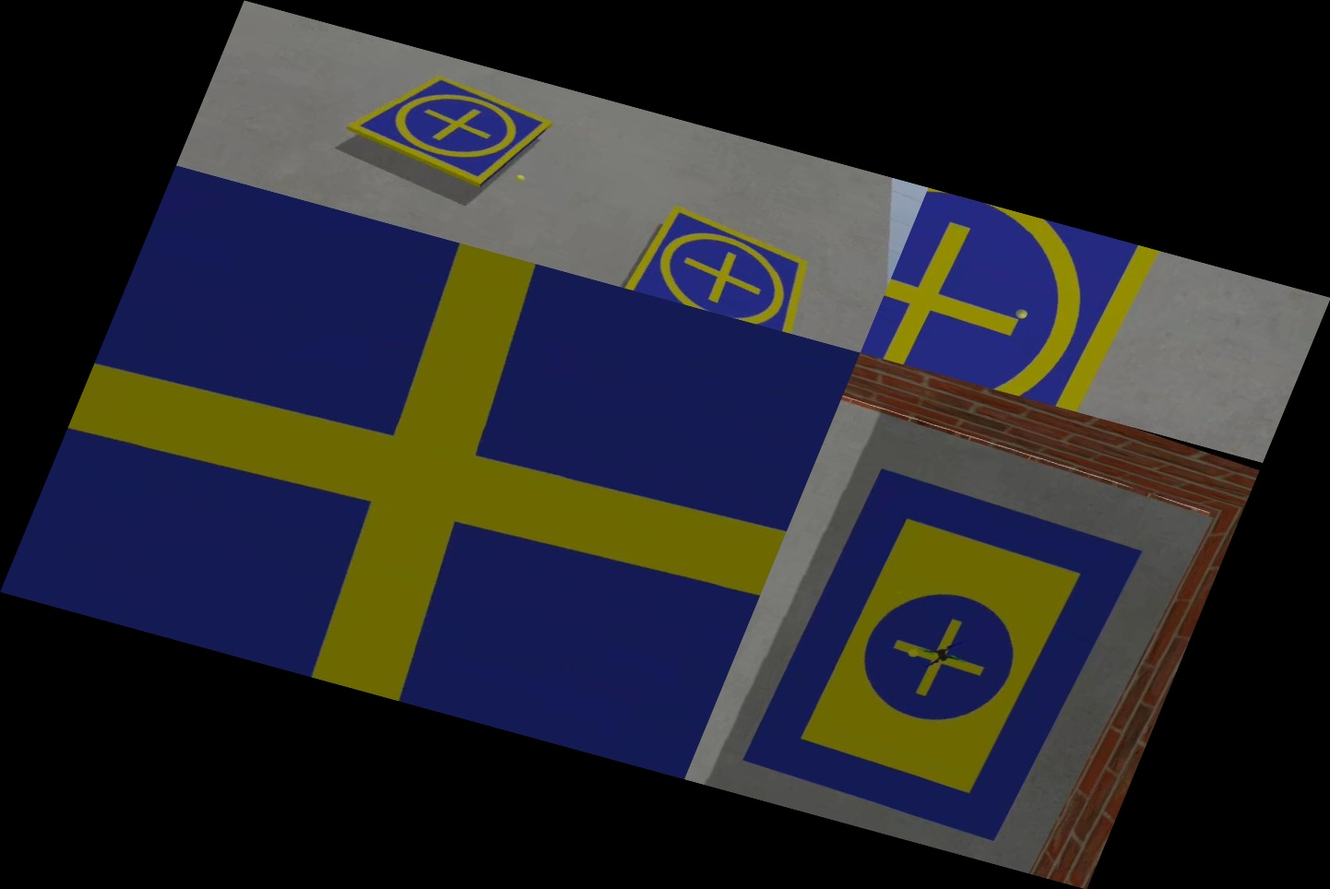large_base: (727, 456, 1152, 856)
small_base: (0, 165, 860, 778), (860, 187, 1160, 416), (334, 52, 562, 202), (619, 197, 846, 338)
